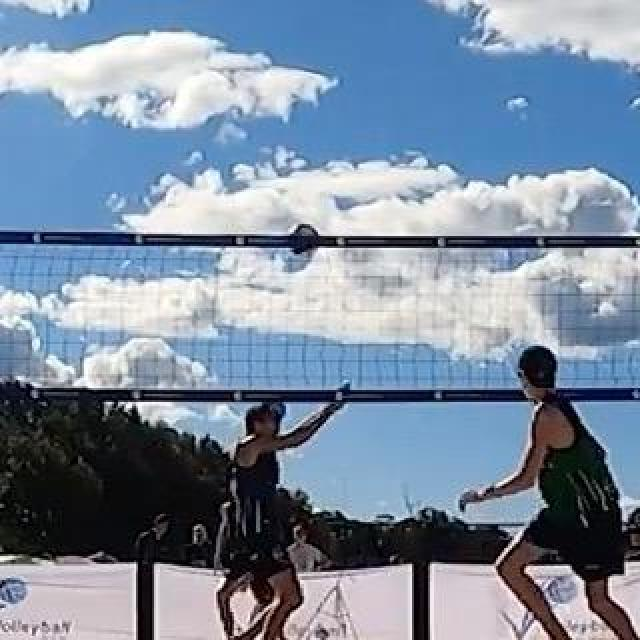volleyball: (291, 223, 317, 253)
